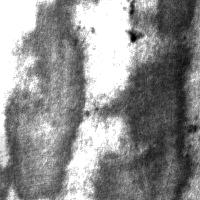patches: (103, 1, 190, 198), (7, 1, 87, 198), (0, 130, 39, 200)
